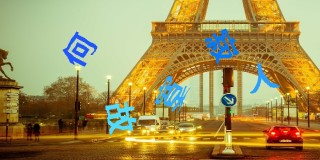人: (250, 61, 281, 96)
何: (63, 32, 96, 67)
寂: (204, 29, 240, 66)
寞: (153, 75, 189, 111)
故: (105, 102, 138, 136)
